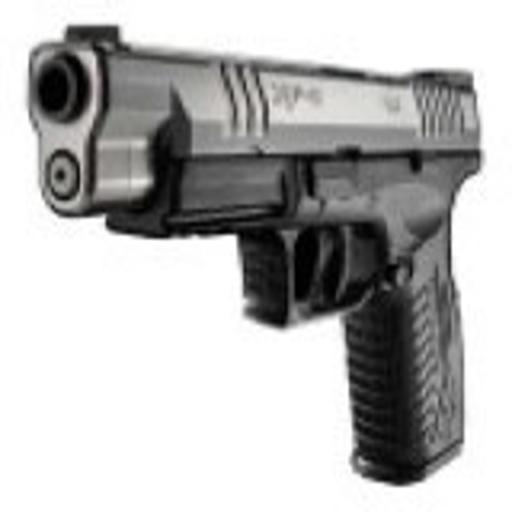Handgun: (27, 20, 479, 485)
